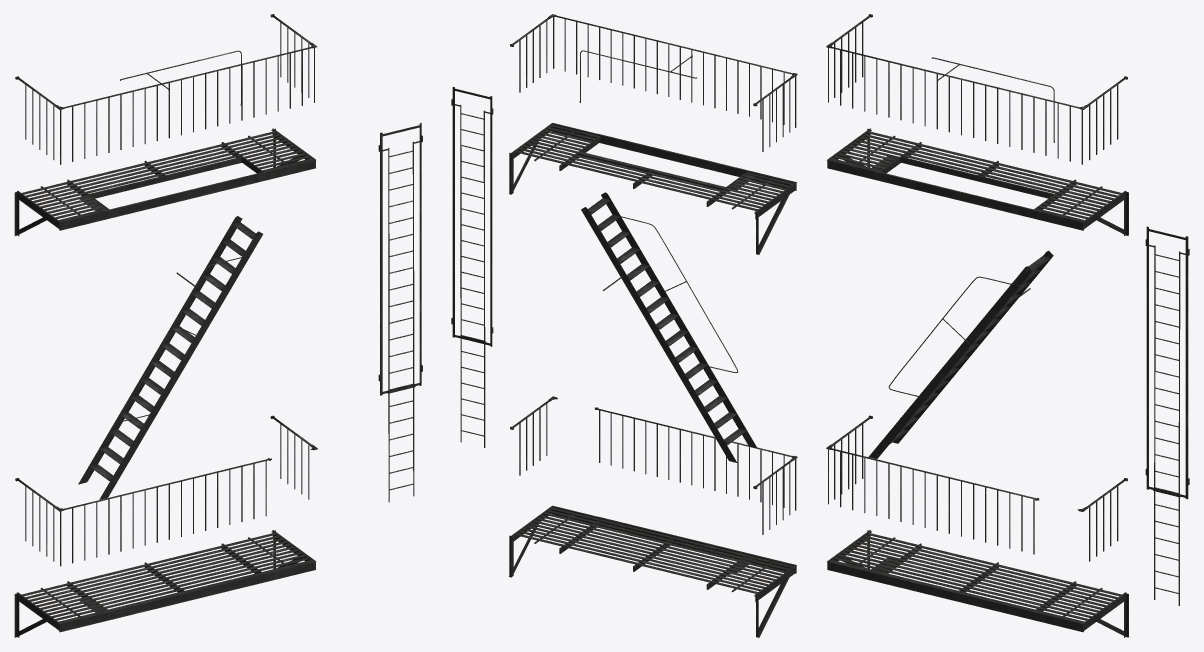
File: fire_escape.glb
3 renders of one model, left to right at view 1: azimuth 30°, elevation 25°; view 2: azimuth 150°, elevation 25°; view 3: azimuth 330°, elevation 25°, orthographic. The views are drawn at different scales.
Visible parts, largest first — view 1: modular_fire_escape_platform_middle, modular_fire_escape_railing_middle; view 2: modular_fire_escape_platform_middle, modular_fire_escape_railing_middle; view 3: modular_fire_escape_platform_middle, modular_fire_escape_railing_middle.
Boxes of the visible parts, x1,y1,x2,y2 form: modular_fire_escape_platform_middle: (14,128,315,637); modular_fire_escape_railing_middle: (15,14,422,566); modular_fire_escape_platform_middle: (509,123,796,637); modular_fire_escape_railing_middle: (451,14,797,534); modular_fire_escape_platform_middle: (827,128,1128,637); modular_fire_escape_railing_middle: (826,14,1189,605).
Bounding box in the file's own units: 6.66 × 9.76 × 1.42.
2 materials, 2 textured.
